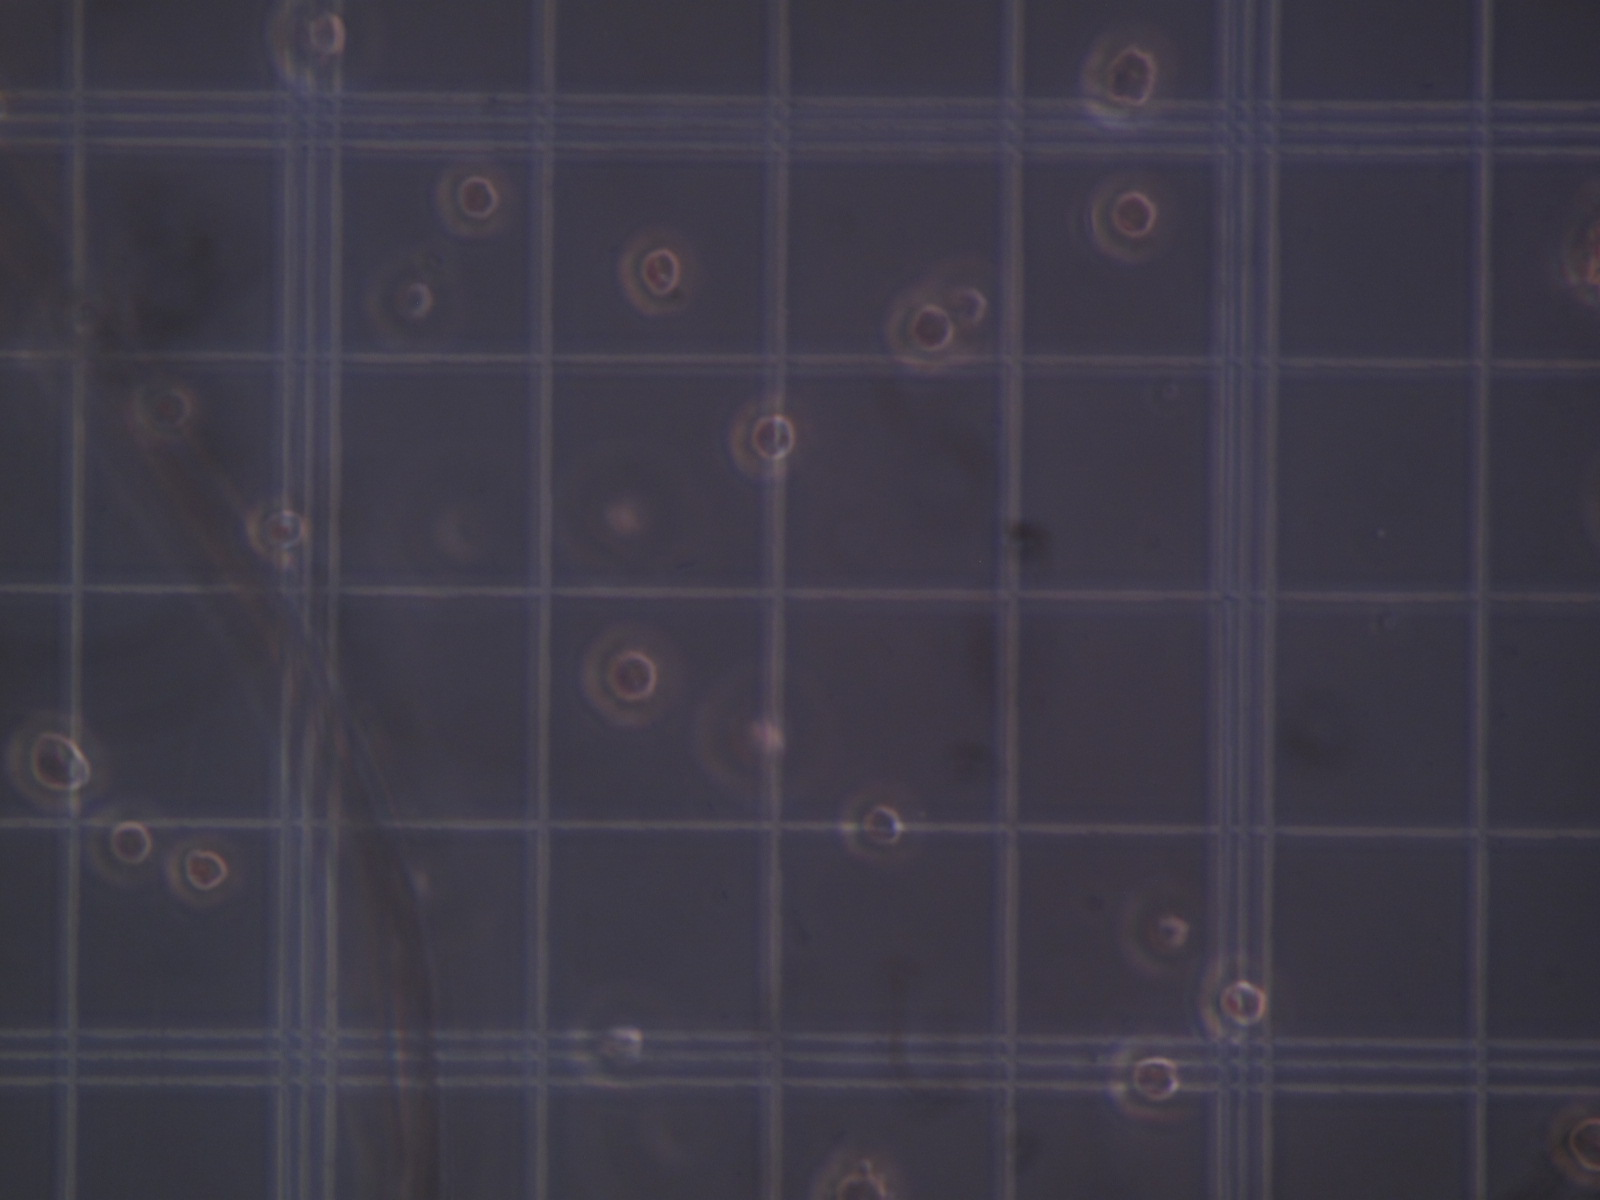hemo: (5, 710, 110, 811), (581, 621, 679, 725), (1078, 34, 1168, 129), (265, 1, 358, 91), (362, 255, 436, 349), (883, 287, 965, 373), (569, 1000, 646, 1090), (617, 228, 694, 316), (931, 256, 1003, 349), (1089, 176, 1165, 262), (1197, 955, 1269, 1046), (728, 395, 804, 480), (1120, 886, 1191, 976), (87, 800, 157, 886), (433, 163, 511, 238), (1107, 1044, 1183, 1121), (168, 834, 241, 908), (838, 787, 905, 863), (811, 1147, 894, 1200), (129, 379, 195, 442), (244, 498, 307, 565), (1550, 1104, 1600, 1187)
